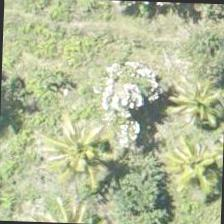Kelapa_Sawit: (38, 98, 132, 190), (152, 115, 223, 208), (156, 58, 223, 151)
